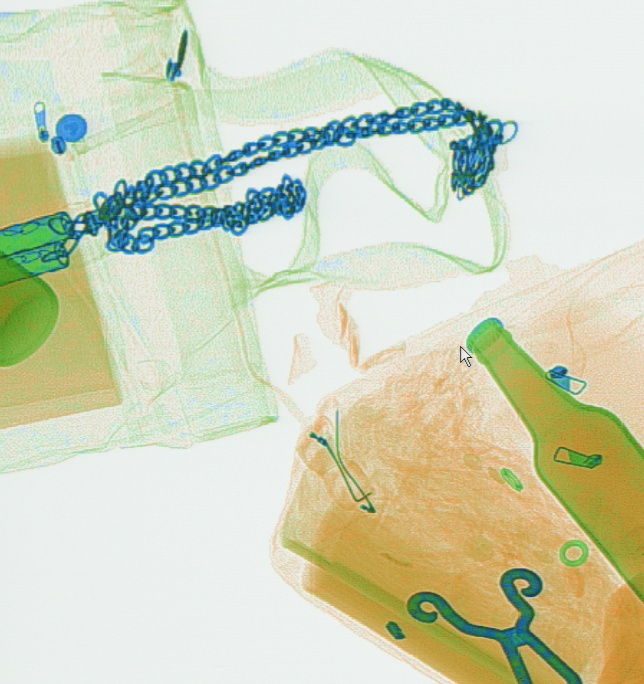slingshot: (403, 563, 581, 682)
